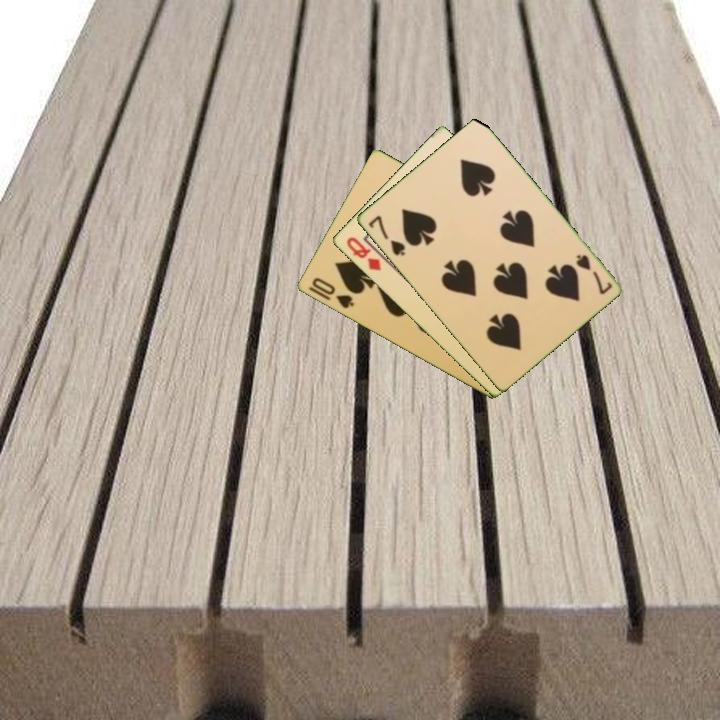10s: (308, 274, 357, 312)
7s: (364, 212, 408, 259), (572, 250, 615, 297)
Qd: (343, 233, 384, 274)
